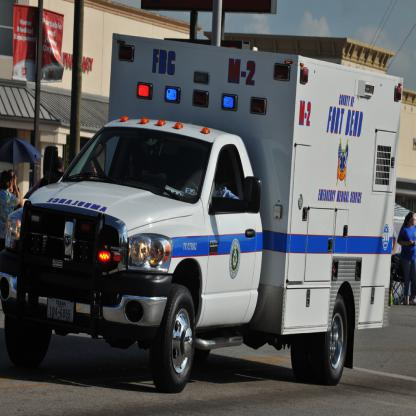Ambulance: (0, 33, 402, 392)
Truck: (0, 34, 401, 392)
